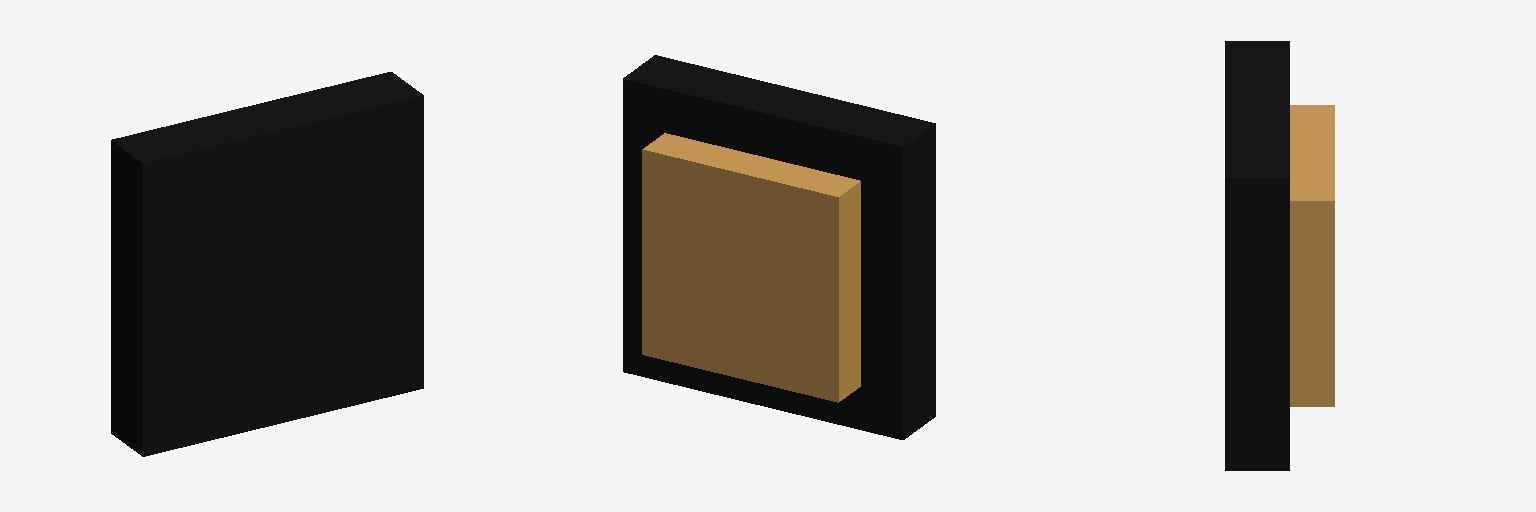
3 renders of one model, left to right at view 1: azimuth 30°, elevation 25°; view 2: azimuth 150°, elevation 25°; view 3: azimuth 270°, elevation 25°, orthographic.
Visible parts, largest first — view 1: Cube.001; view 2: Cube.001; view 3: Cube.001.
Part boxes in pixels (x1,y1,x2,y2): Cube.001: (111,72,423,456); Cube.001: (623,55,935,439); Cube.001: (1225,41,1334,470).
Size of the model in its own units: 2 by 2 by 0.6787.
1 materials, 1 textured.